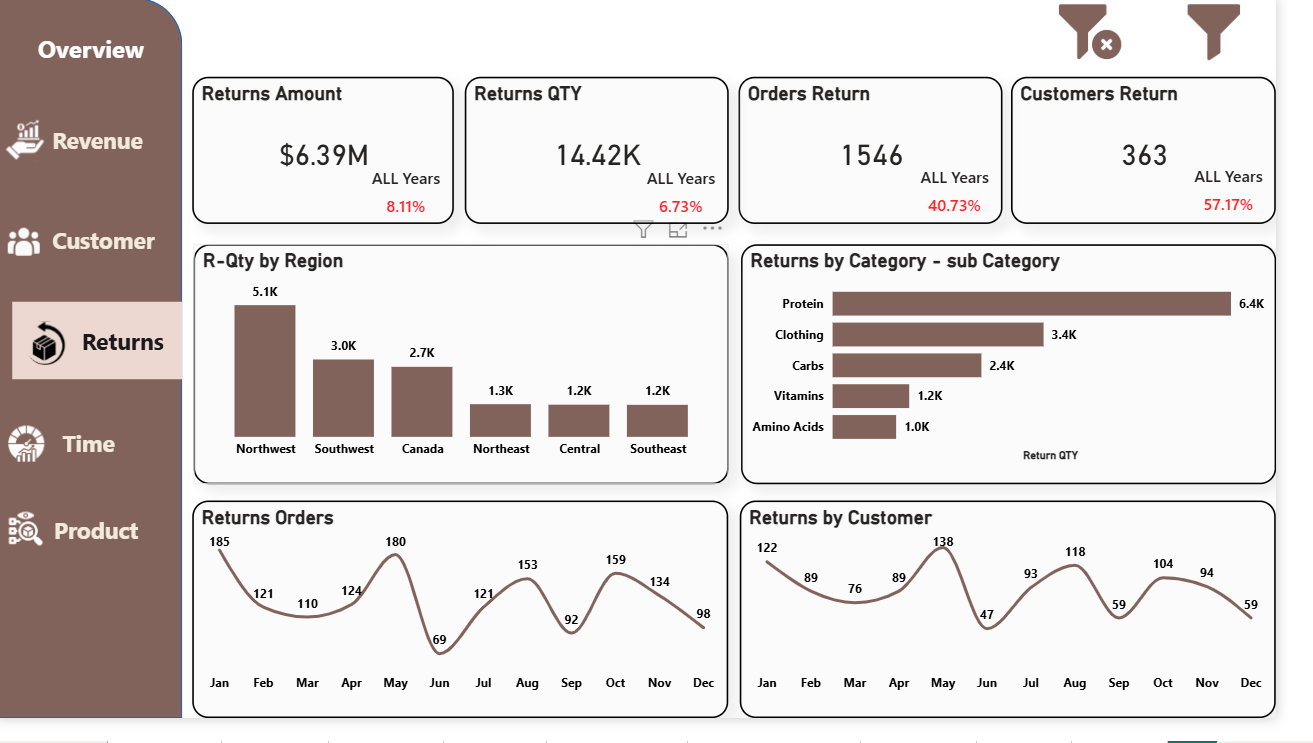

What the dashboard file says about the page in this screenshot:
{"tool":"powerbi","page":{"name":"Returns","canvas":[1280,720],"ordinal":3},"visuals":[{"type":"card","title":" Orders Return","fields":{"Values":["Returns.Returns Order"]},"box":[742.5,78.8,263.8,147.5],"z":0},{"type":"card","title":"Customers Return","fields":{"Values":["Returns.Returns Customern"]},"box":[1015,78.8,265,147.5],"z":1000},{"type":"card","title":"Returns Amount","fields":{"Values":["Returns.Returns Amount"]},"box":[196.2,78.8,261.2,147.5],"z":2000},{"type":"lineChart","title":"Returns Orders ","fields":{"Category":["Calender.Month_Name"],"Y":["Returns.Returns Order"]},"box":[196.2,502.5,536.2,217.5],"z":3000},{"type":"barChart","title":"Returns by Category - sub Category","fields":{"Category":["Product.Product Sub Category.CategoryName","Product.Product Sub Category.SubcategoryName"],"Y":["Returns.Return QTY"]},"box":[745,246.2,535,240],"z":4000},{"type":"lineClusteredColumnComboChart","title":"R-Qty by Region","fields":{"Category":["Customer.Region"],"Y":["Returns.Return QTY"]},"box":[197.5,246.2,535,240],"z":5000},{"type":"card","title":"Returns QTY","fields":{"Values":["Returns.Return QTY"]},"box":[468.8,78.8,263.8,147.5],"z":6000},{"type":"card","fields":{"Values":["Returns.R-Amount -this Year-"]},"box":[196.2,152.5,97.5,75],"z":7000},{"type":"card","fields":{"Values":["Returns.R-Amount -All Year-"]},"box":[362.5,148.8,95,78.8],"z":8000},{"type":"card","fields":{"Values":["Returns.R-Qty-This Year-"]},"box":[471.3,153.5,97.5,75],"z":9000},{"type":"card","fields":{"Values":["Returns.R-Qty-All Years-"]},"box":[637.5,148.8,95,78.8],"z":10000},{"type":"card","fields":{"Values":["Returns.R-Orders -This Year-"]},"box":[745.3,153.5,97.5,75],"z":11000},{"type":"card","fields":{"Values":["Returns.R-Orders -All Year-"]},"box":[911.2,147.9,95,78.8],"z":12000},{"type":"card","fields":{"Values":["Returns.R-Customer -This Year-"]},"box":[1019,151.5,97.5,75],"z":13000},{"type":"card","fields":{"Values":["Returns.R-Customer -All Year-"]},"box":[1184.9,145.9,95,78.8],"z":14000},{"type":"lineChart","title":"Returns by Customer","fields":{"Category":["Calender.Month_Name"],"Y":["Returns.Returns Customern"]},"box":[743.8,502.5,536.2,217.5],"z":15000},{"type":"image","box":[1032.9,2.5,123.5,62.4],"z":16000},{"type":"image","box":[1156.5,6.4,123.5,56],"z":17000},{"type":"shape","box":[0,0,186.2,720],"z":19000},{"type":"actionButton","box":[3.8,223.8,47.5,40],"z":20000},{"type":"actionButton","box":[1.2,202.1,185,77.5],"z":21000},{"type":"actionButton","box":[16.2,303.8,170,77.5],"z":22000},{"type":"actionButton","box":[0,406.2,185,77.5],"z":23000},{"type":"actionButton","box":[12.5,0,165,100],"z":24000},{"type":"actionButton","box":[25,311.2,51.2,62.5],"z":25000},{"type":"actionButton","box":[1.2,105,186.2,72.5],"z":26000},{"type":"actionButton","box":[0,492.5,186.2,77.5],"z":27000},{"type":"actionButton","box":[1.2,117.5,55,48.8],"z":28000},{"type":"actionButton","box":[0,422.5,60,46.2],"z":29000},{"type":"actionButton","box":[5,507.5,50,46.2],"z":30000}]}

Visuals, with their boxes on the page's 1280x720 design canvas (x1, y1, x2, y2). These are canvas units, not pixel positions in the 1313x743 screenshot, which may show the page scaled, cropped or inside an application window:
" Orders Return" card: (left=742, top=79, right=1006, bottom=226)
"Customers Return" card: (left=1015, top=79, right=1280, bottom=226)
"Returns Amount" card: (left=196, top=79, right=457, bottom=226)
"Returns Orders " lineChart: (left=196, top=502, right=732, bottom=720)
"Returns by Category - sub Category" barChart: (left=745, top=246, right=1280, bottom=486)
"R-Qty by Region" lineClusteredColumnComboChart: (left=198, top=246, right=732, bottom=486)
"Returns QTY" card: (left=469, top=79, right=733, bottom=226)
card - Returns.R-Amount -this Year-: (left=196, top=152, right=294, bottom=228)
card - Returns.R-Amount -All Year-: (left=362, top=149, right=458, bottom=228)
card - Returns.R-Qty-This Year-: (left=471, top=154, right=569, bottom=228)
card - Returns.R-Qty-All Years-: (left=638, top=149, right=732, bottom=228)
card - Returns.R-Orders -This Year-: (left=745, top=154, right=843, bottom=228)
card - Returns.R-Orders -All Year-: (left=911, top=148, right=1006, bottom=227)
card - Returns.R-Customer -This Year-: (left=1019, top=152, right=1116, bottom=226)
card - Returns.R-Customer -All Year-: (left=1185, top=146, right=1280, bottom=225)
"Returns by Customer" lineChart: (left=744, top=502, right=1280, bottom=720)
image: (left=1033, top=2, right=1156, bottom=65)
image: (left=1156, top=6, right=1280, bottom=62)
shape: (left=0, top=0, right=186, bottom=720)
actionButton: (left=4, top=224, right=51, bottom=264)
actionButton: (left=1, top=202, right=186, bottom=280)
actionButton: (left=16, top=304, right=186, bottom=381)
actionButton: (left=0, top=406, right=185, bottom=484)
actionButton: (left=12, top=0, right=178, bottom=100)
actionButton: (left=25, top=311, right=76, bottom=374)
actionButton: (left=1, top=105, right=187, bottom=178)
actionButton: (left=0, top=492, right=186, bottom=570)
actionButton: (left=1, top=118, right=56, bottom=166)
actionButton: (left=0, top=422, right=60, bottom=469)
actionButton: (left=5, top=508, right=55, bottom=554)
